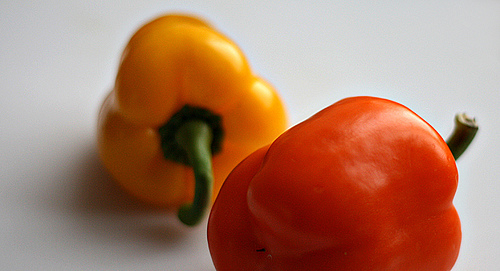capsicum: (207, 96, 481, 270), (95, 12, 288, 227)
